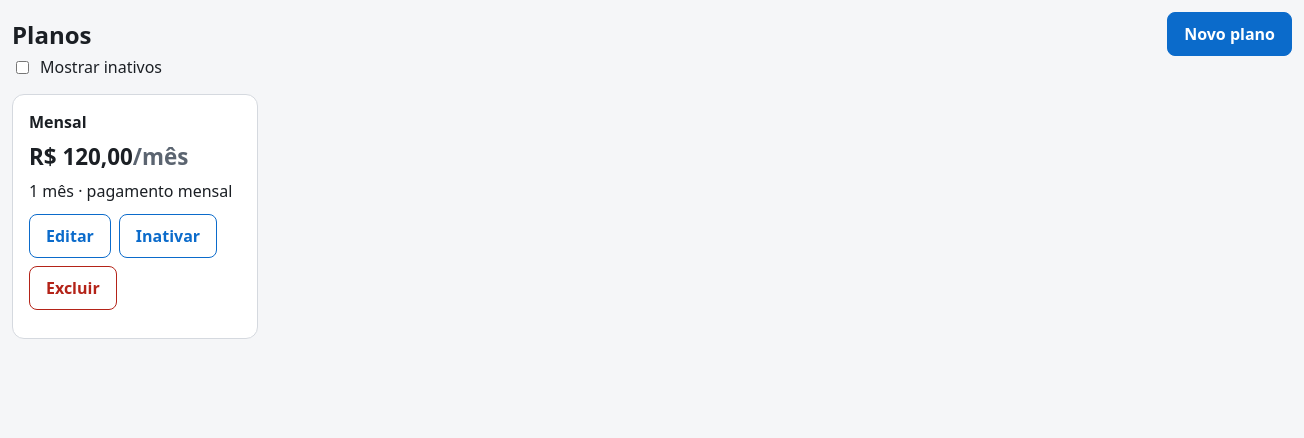
Test case: planos (ADMIN) › excluir plano contratado: mostra o motivo da API
The image size is (1304, 438).
Click the button "Excluir" at (73, 288), box [29,266,117,310]
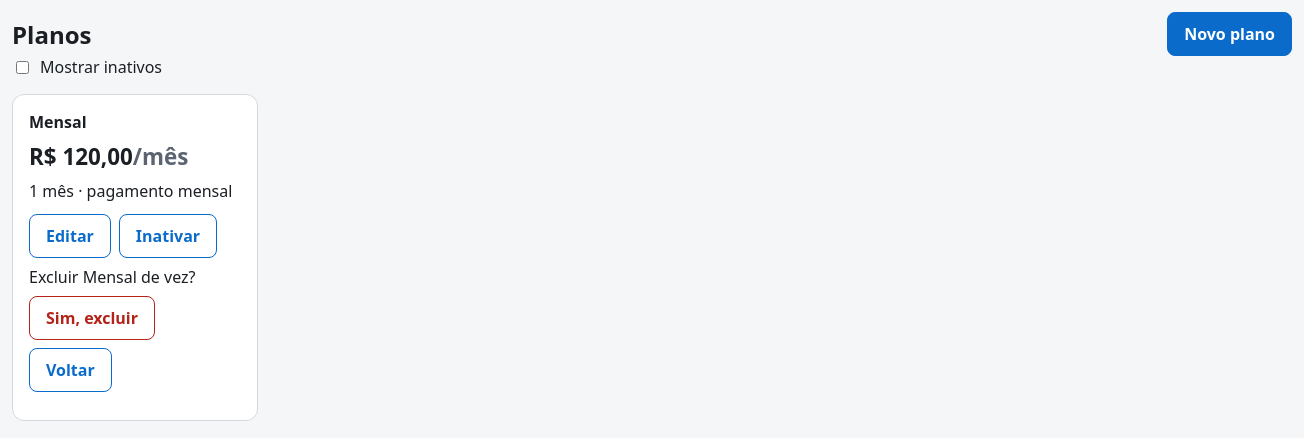
Click the button "Sim, excluir" at (92, 318), box [29,296,155,340]
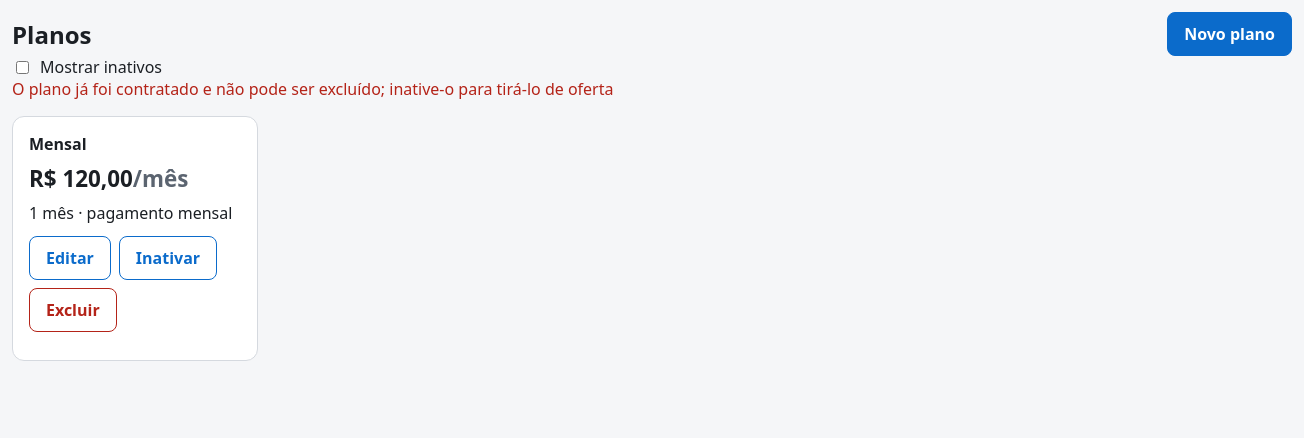
Expected: the text "Mensal" is shown, [29,133,87,155]
Result: the text "inative-o para tirá-lo de oferta" is shown at [12,78,614,100]
